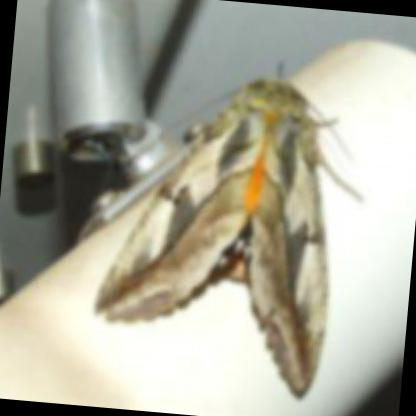fruit sucking moth: (95, 79, 328, 406)
